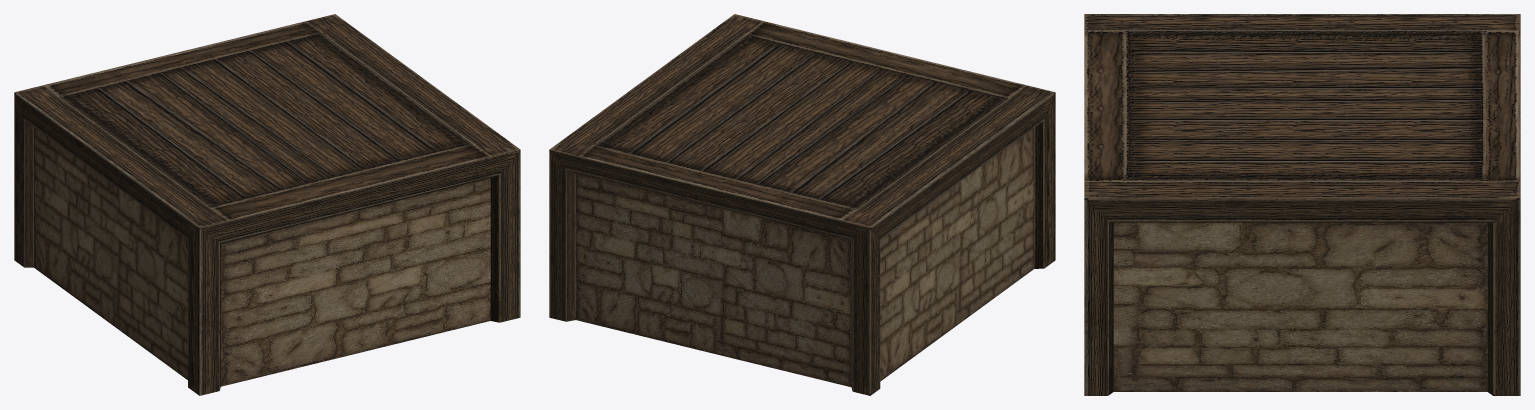
File: House_6X6_03b.fbx
3 views of the same model, side by side, from view 1: azimuth 30°, elevation 25°; view 2: azimuth 150°, elevation 25°; view 3: azimuth 270°, elevation 25° (orthographic). The views are drawn at different scales.
Visible parts, largest first — view 1: House_6X6_03b; view 2: House_6X6_03b; view 3: House_6X6_03b.
Boxes of the visible parts, x1,y1,x2,y2 form: House_6X6_03b: [14, 14, 520, 395]; House_6X6_03b: [549, 14, 1055, 395]; House_6X6_03b: [1084, 14, 1520, 395].
Size of the model in its own units: 6 by 3 by 6.
